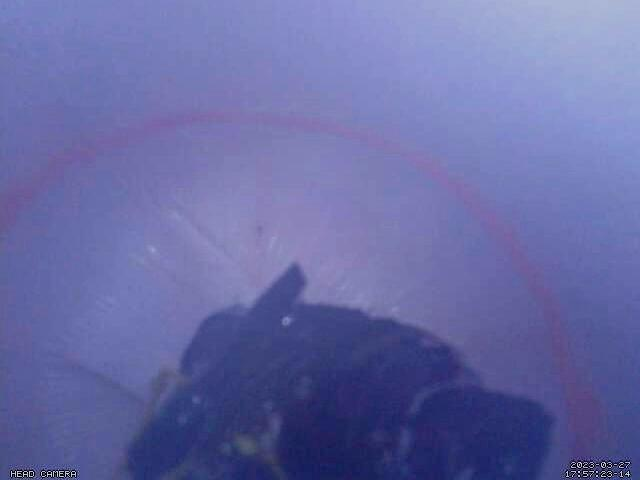head: (0, 107, 599, 479)
